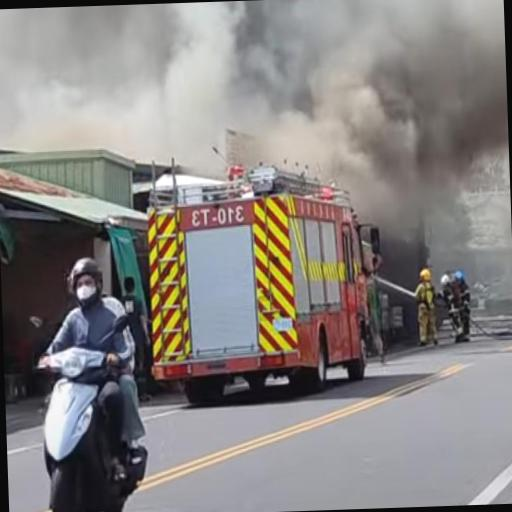fire truck: (148, 165, 379, 403)
